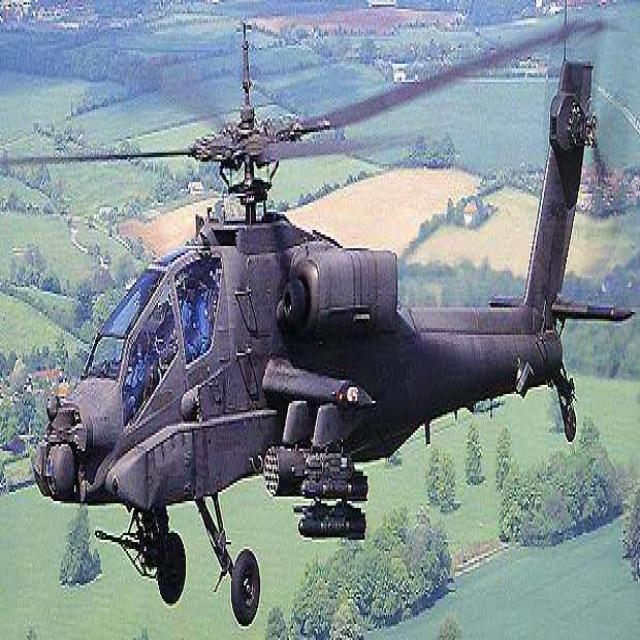Apache: (2, 34, 631, 640)
